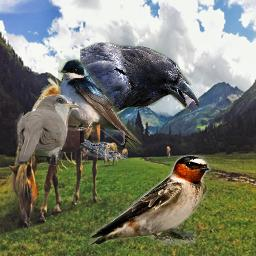Crow: (80, 42, 200, 160)
Cuckoo: (14, 94, 80, 166)
Swallow: (88, 154, 211, 246), (58, 59, 142, 154)
